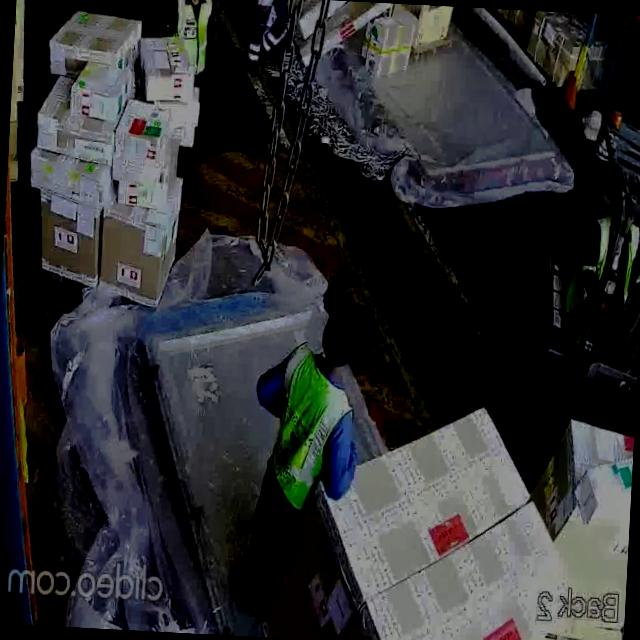Box: (307, 394, 524, 594), (395, 527, 558, 640), (97, 205, 181, 293), (51, 11, 140, 70), (38, 202, 102, 284), (362, 4, 424, 78), (144, 30, 198, 100), (113, 103, 174, 164), (32, 120, 104, 159), (29, 159, 102, 196), (77, 64, 125, 112)
